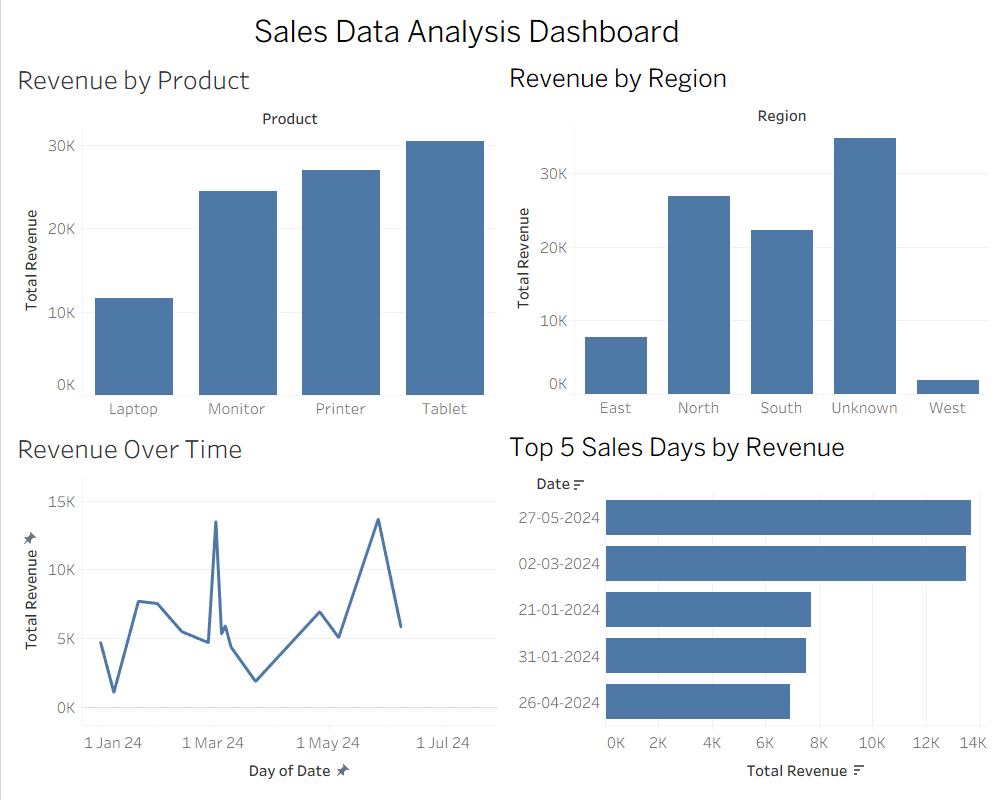

The page's visual inventory and layout, read from the dashboard file:
{"tool":"tableau","page":{"name":"Dashboard 1","canvas":[1000,800],"ordinal":0},"visuals":[{"type":"title","box":[8,8,984,46]},{"type":"worksheet","title":"Revenue by Product","mark":"Automatic","rows":["total_revenue"],"cols":["product"],"box":[8,54,492,369]},{"type":"worksheet","title":"Revenue by Region","mark":"Automatic","rows":["total_revenue"],"cols":["region"],"box":[500,54,492,369]},{"type":"worksheet","title":"Revenue Over Time","mark":"Automatic","rows":["total_revenue"],"cols":["date"],"box":[8,423,492,369]},{"type":"worksheet","title":"Top 5 Sales Days","mark":"Bar","rows":["date"],"cols":["total_revenue"],"box":[500,423,492,369]}]}

Visuals, with their boxes in screenshot pixels (x1, y1, x2, y2), scaled from the page's 1000x800 canvas onto the 997x800 screenshot:
title: BBox(8, 8, 989, 54)
"Revenue by Product" worksheet: BBox(8, 54, 498, 423)
"Revenue by Region" worksheet: BBox(498, 54, 989, 423)
"Revenue Over Time" worksheet: BBox(8, 423, 498, 792)
"Top 5 Sales Days" worksheet (Bar marks): BBox(498, 423, 989, 792)
